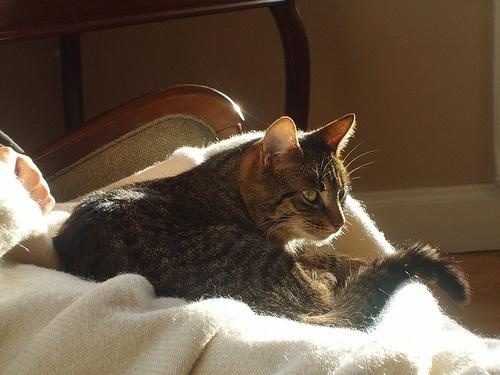cat: (54, 113, 474, 332)
sofa: (2, 64, 249, 211)
